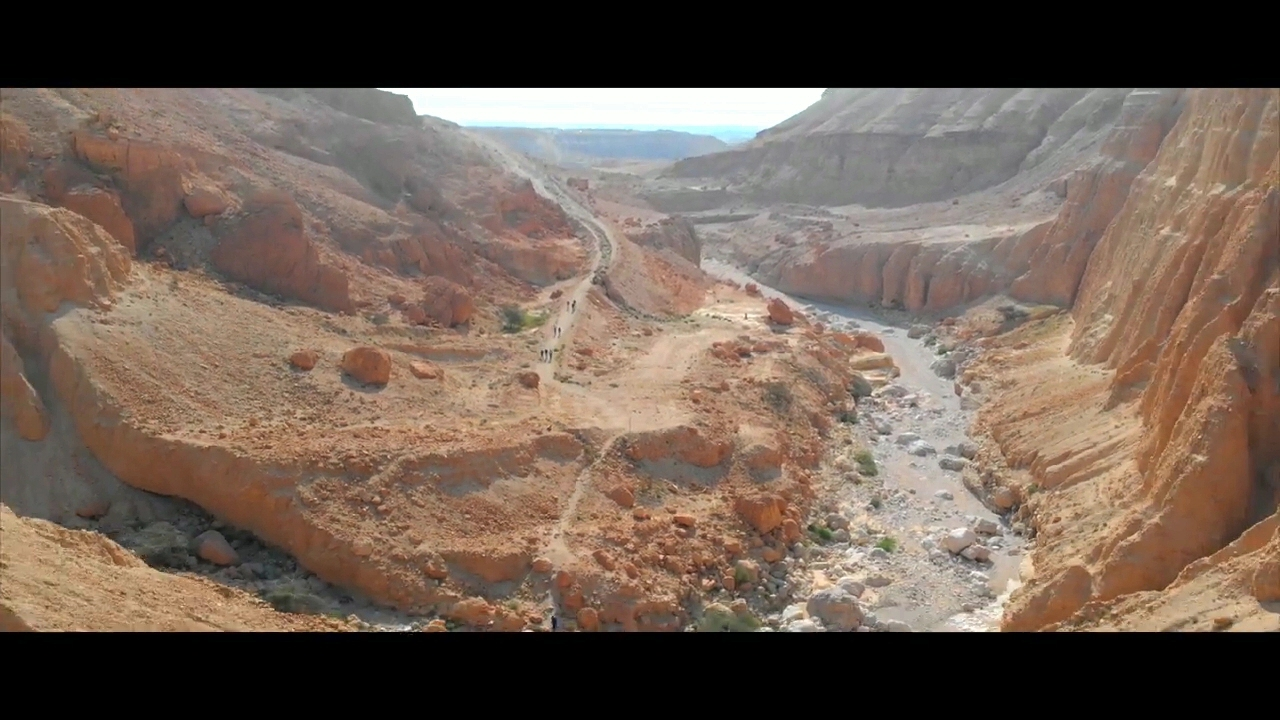insan: (543, 348, 550, 362), (548, 349, 554, 364), (553, 325, 558, 340), (539, 348, 544, 362), (566, 300, 571, 314), (557, 326, 562, 337), (571, 302, 575, 313)
